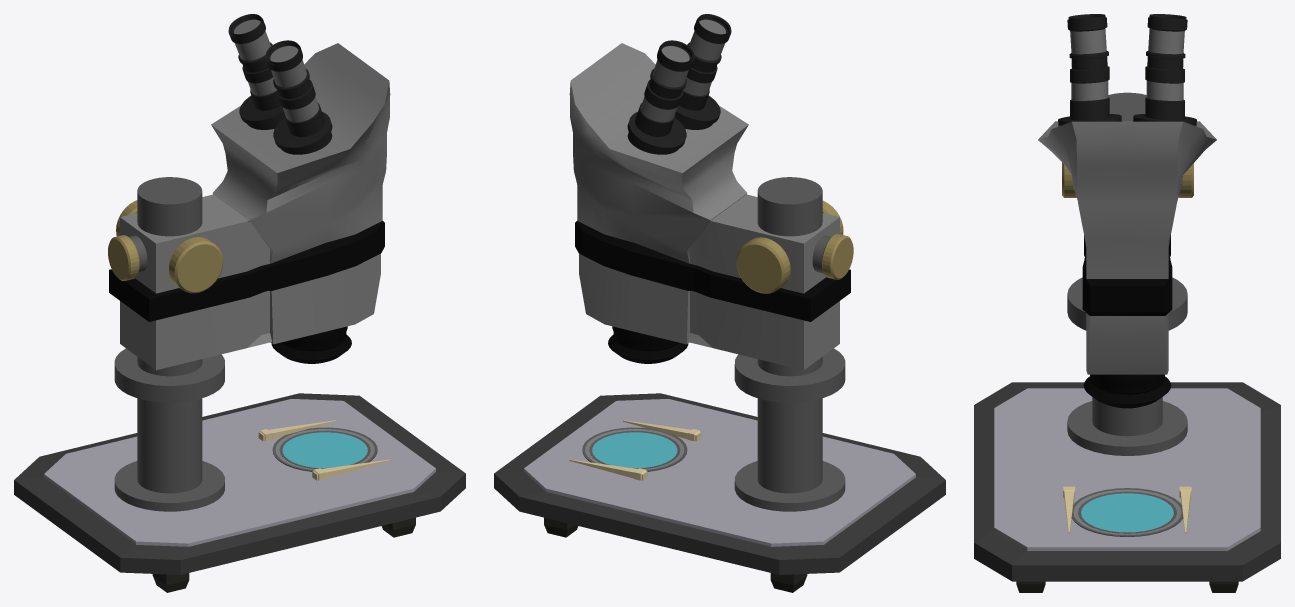
Rendered from MicroScope.fbx.
3 views of the same model, side by side, from view 1: azimuth 30°, elevation 25°; view 2: azimuth 150°, elevation 25°; view 3: azimuth 270°, elevation 25° (orthographic). The views are drawn at different scales.
Parts seen in each view (by area): view 1: Cube, Cube.004, Cube.003, Cylinder.001, Cylinder.009, Cylinder.003, Cylinder, Cylinder.002, Cylinder.008, Cylinder.010, Cylinder.005, Cube.002 (+1 smaller); view 2: Cube, Cube.004, Cube.003, Cylinder.001, Cylinder.009, Cylinder.003, Cylinder, Cylinder.002, Cylinder.006, Cylinder.010, Cylinder.005, Cube.002 (+1 smaller); view 3: Cube, Cube.004, Cylinder.009, Cylinder, Cylinder.002, Cylinder.001, Cylinder.010, Cylinder.003, Cube.002, Telescope Stub.
Boxes of the visible parts, x1=… form: Cube: x1=14, y1=393, x2=465, y2=574; Cube.004: x1=211, y1=43, x2=390, y2=344; Cube.003: x1=109, y1=194, x2=271, y2=370; Cylinder.001: x1=137, y1=177, x2=202, y2=493; Cylinder.009: x1=228, y1=14, x2=332, y2=154; Cylinder.003: x1=114, y1=348, x2=224, y2=402; Cylinder: x1=272, y1=427, x2=377, y2=471; Cylinder.002: x1=114, y1=461, x2=224, y2=511; Cylinder.008: x1=169, y1=237, x2=223, y2=293; Cylinder.010: x1=271, y1=326, x2=351, y2=363; Cylinder.005: x1=108, y1=235, x2=139, y2=280; Cube.002: x1=258, y1=420, x2=390, y2=480; Cube: x1=494, y1=393, x2=945, y2=574; Cube.004: x1=569, y1=43, x2=748, y2=344; Cube.003: x1=673, y1=194, x2=850, y2=370; Cylinder.001: x1=757, y1=177, x2=822, y2=493; Cylinder.009: x1=627, y1=14, x2=731, y2=154; Cylinder.003: x1=734, y1=348, x2=845, y2=402; Cylinder: x1=582, y1=427, x2=687, y2=471; Cylinder.002: x1=734, y1=461, x2=845, y2=511; Cylinder.006: x1=736, y1=237, x2=790, y2=293; Cylinder.010: x1=608, y1=326, x2=688, y2=363; Cylinder.005: x1=821, y1=234, x2=853, y2=279; Cube.002: x1=569, y1=420, x2=701, y2=480; Cube: x1=974, y1=382, x2=1280, y2=581; Cube.004: x1=1038, y1=121, x2=1216, y2=374; Cylinder.009: x1=1058, y1=14, x2=1196, y2=125; Cylinder: x1=1071, y1=488, x2=1183, y2=536; Cylinder.002: x1=1067, y1=401, x2=1187, y2=455; Cylinder.001: x1=1092, y1=92, x2=1162, y2=436; Cylinder.010: x1=1083, y1=374, x2=1171, y2=408; Cylinder.003: x1=1067, y1=277, x2=1187, y2=330; Cube.002: x1=1063, y1=486, x2=1191, y2=533; Telescope Stub: x1=1016, y1=581, x2=1238, y2=592.
Bounding box in the file's own units: 325 × 439 × 230.
